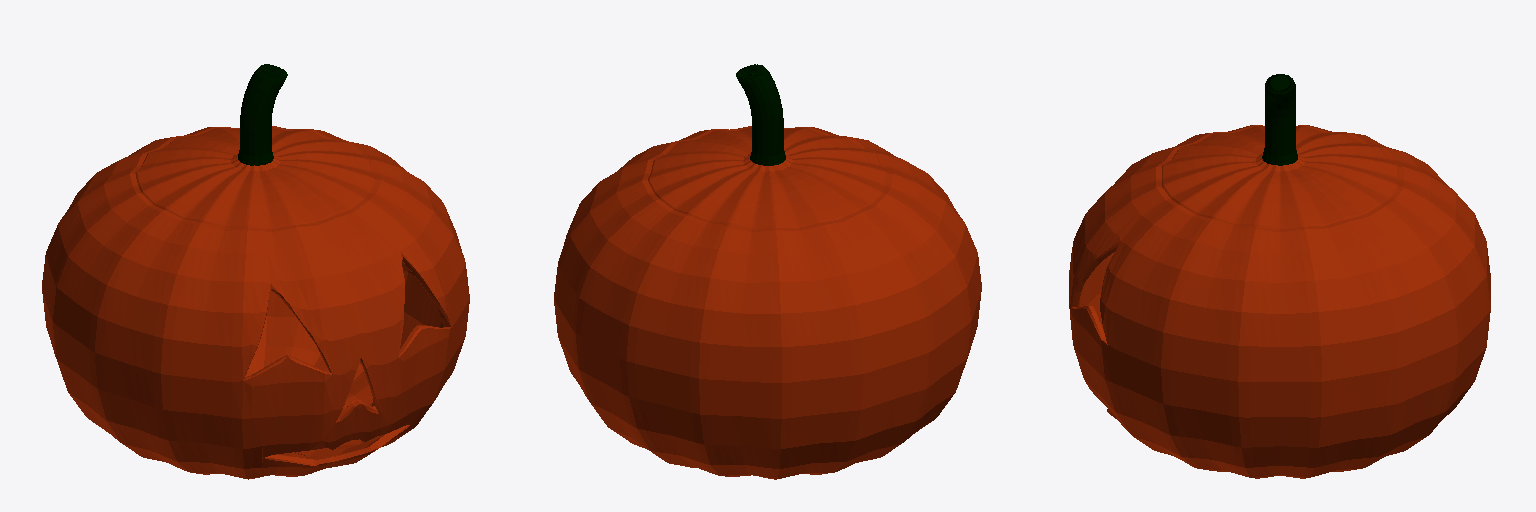
The model's file is abobora.obj.
3 renders of one model, left to right at view 1: azimuth 30°, elevation 25°; view 2: azimuth 150°, elevation 25°; view 3: azimuth 270°, elevation 25°, orthographic.
Parts seen in each view (by area): view 1: Sphere.001, Sphere; view 2: Sphere.001, Sphere; view 3: Sphere.001, Sphere.
Part boxes in pixels (left/top/right/bottom): Sphere.001: left=42, top=126, right=469, bottom=479; Sphere: left=135, top=64, right=375, bottom=228; Sphere.001: left=554, top=126, right=981, bottom=479; Sphere: left=648, top=64, right=887, bottom=228; Sphere.001: left=1069, top=125, right=1490, bottom=478; Sphere: left=1162, top=74, right=1398, bottom=228.
Bounding box in the file's own units: 5.71 × 5.56 × 5.72.